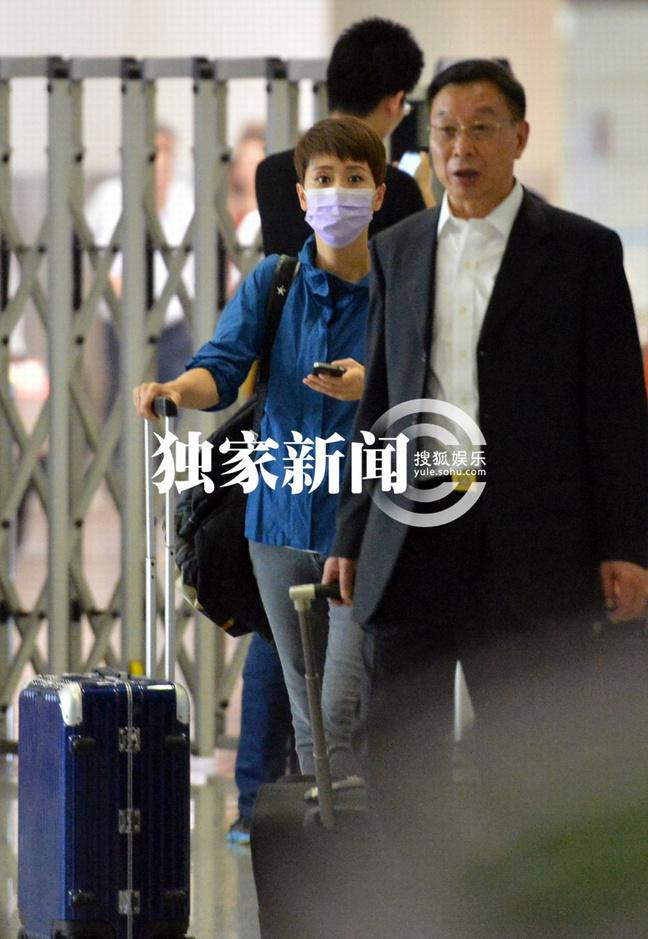NONE: (428, 107, 509, 195)
OK: (303, 162, 383, 242)
